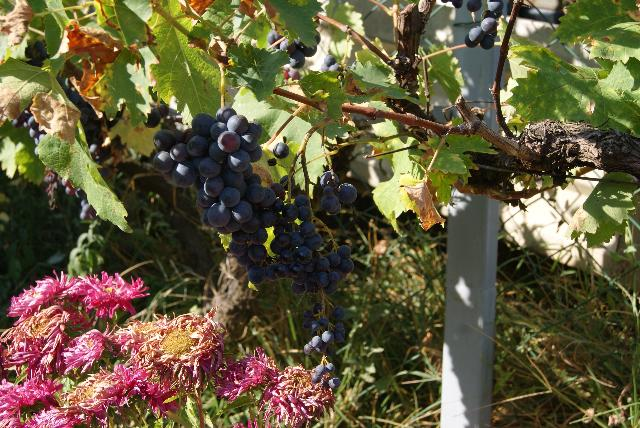grapes: (154, 106, 269, 268), (219, 184, 354, 295), (302, 304, 345, 355), (320, 172, 358, 215), (311, 360, 340, 389)
